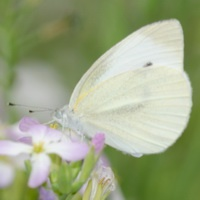insect: (56, 19, 191, 156)
